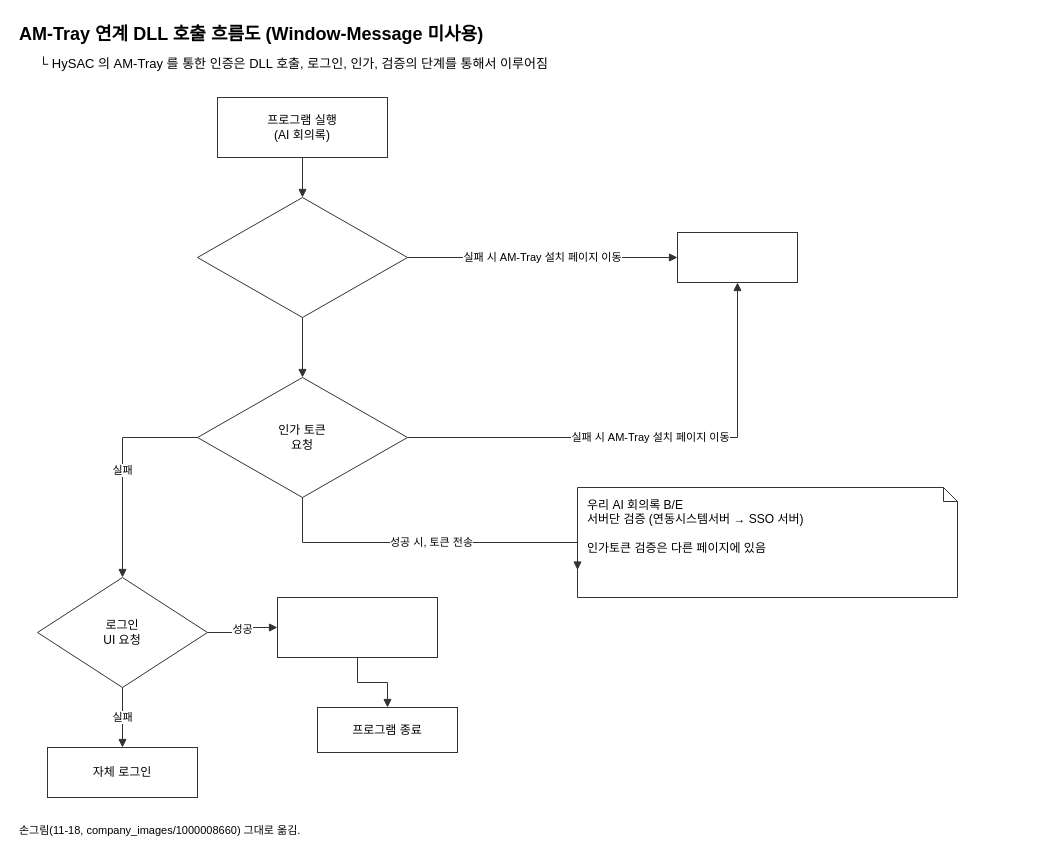
The diagram is 1054 pixels wide and 854 high, and some of its shapes have lost their labels. The centre of each missing label's shape, as x and y in pixels:
AM-Tray DLL 로딩: the point at 302,257
SSO 로그인 요청 완료: the point at 357,627
사이트: the point at 737,257
